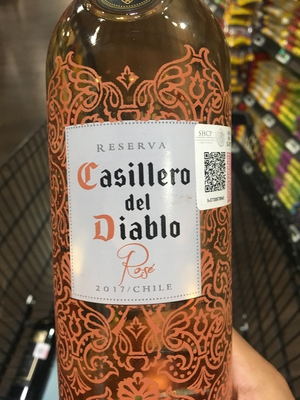casillero del diablo rose: (43, 5, 241, 400)
